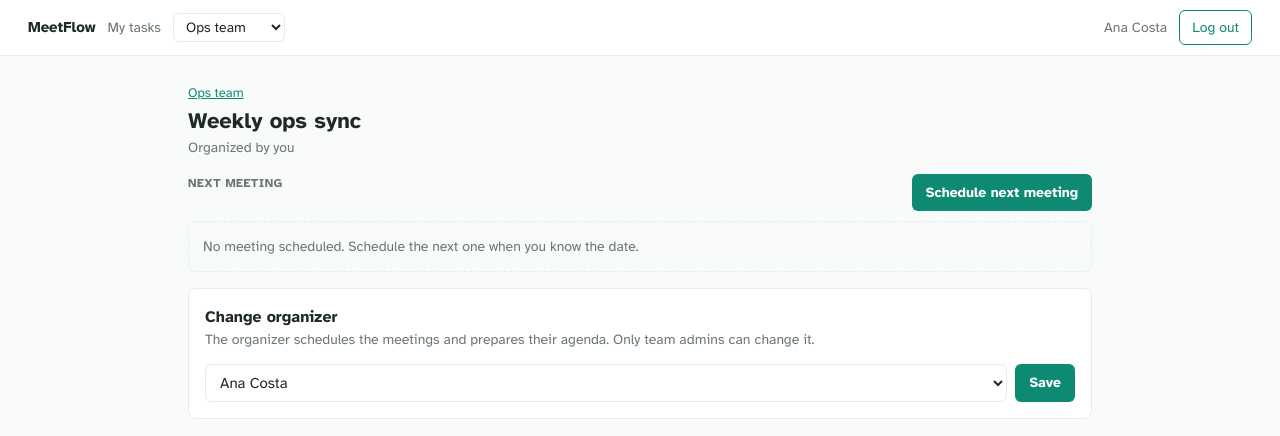
Test: the series page › lets a team admin hand the organizer role to another member
Select "Bo Lind" in the dropdown named "New organizer" at (606, 382), box [205, 364, 1007, 402]
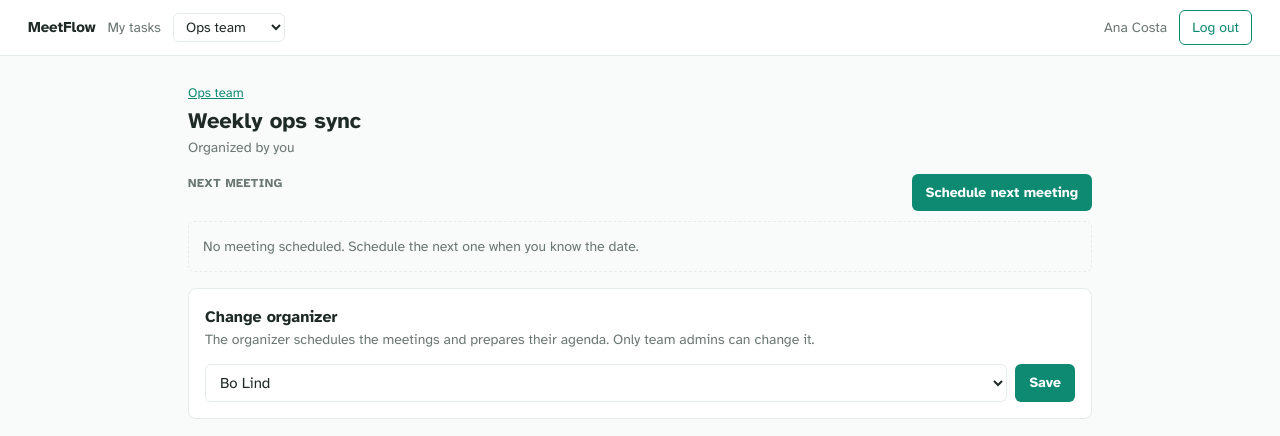
Click the button "Save" at (1045, 382), box [1015, 364, 1075, 402]
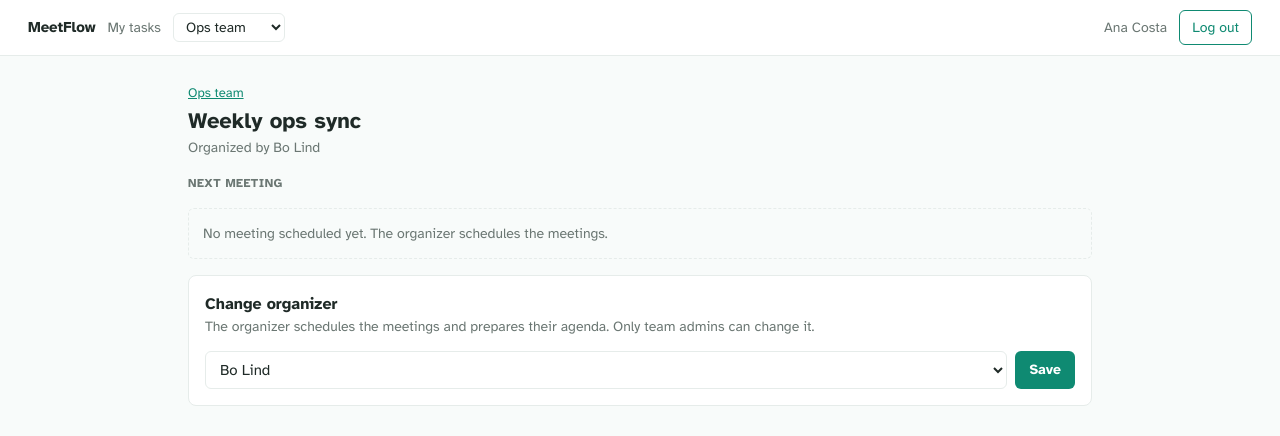
Expected: the text "Organized by Bo Lind" is shown, [188, 138, 320, 156]
